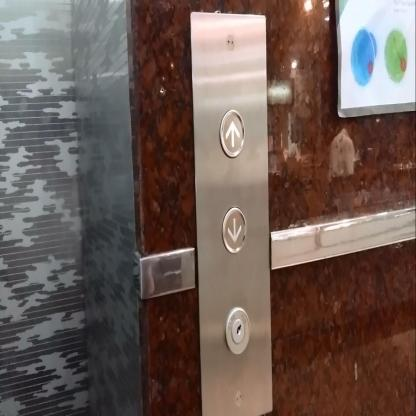down: (221, 204, 247, 253)
keyhole: (224, 305, 250, 355)
up: (218, 106, 246, 160)
